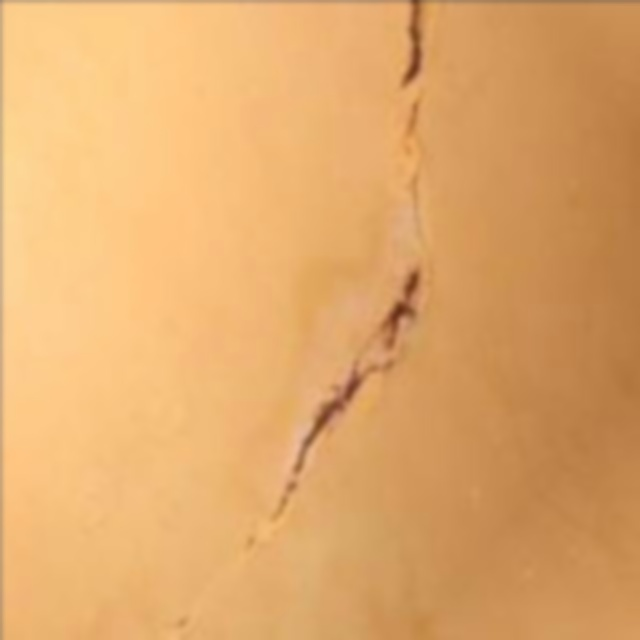SurfaceCrack: (244, 0, 454, 568)
